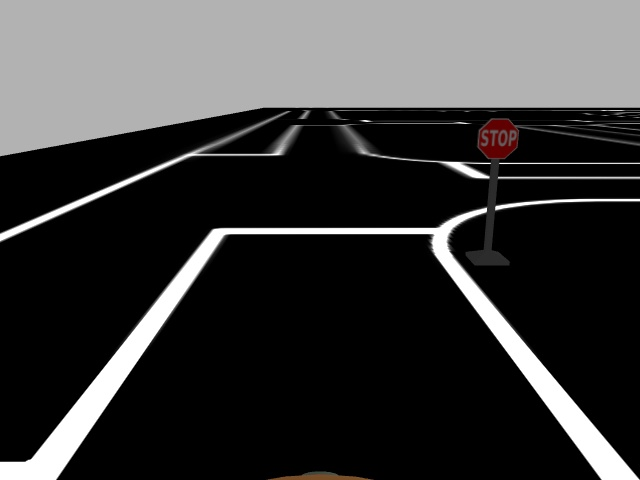stop: (474, 117, 521, 161)
